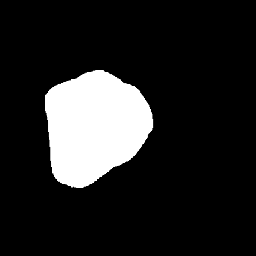mass: (56, 83, 149, 160)
